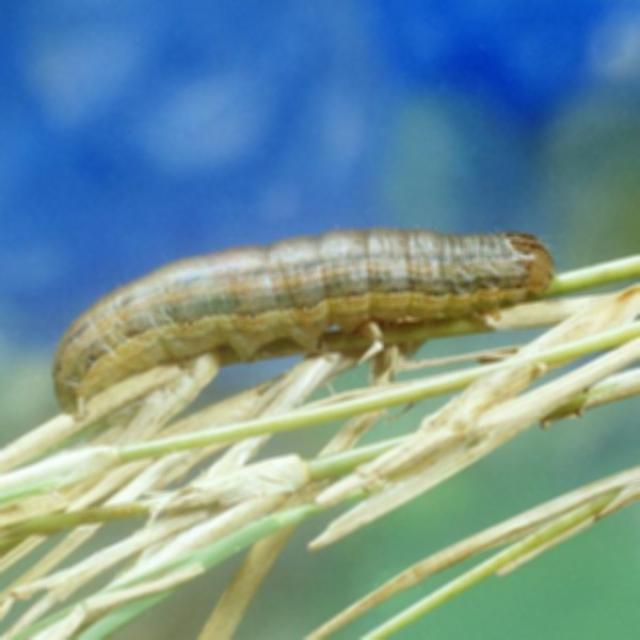army worm: (53, 220, 559, 420)
